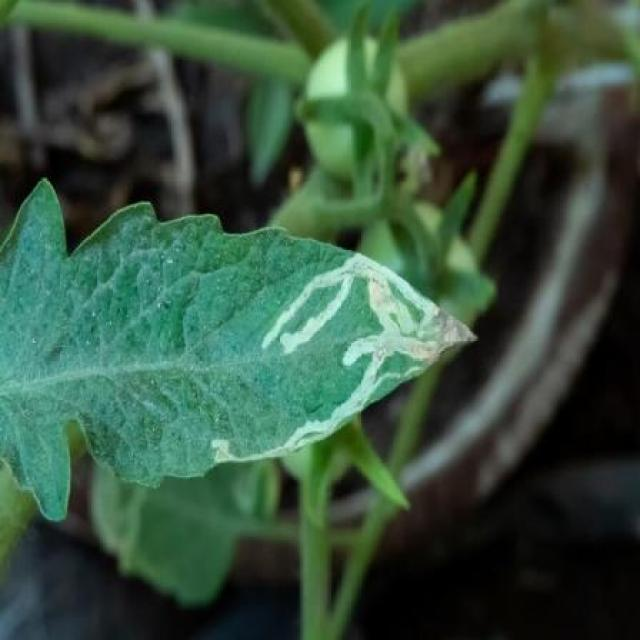Leaf Miner: (0, 175, 480, 526)
